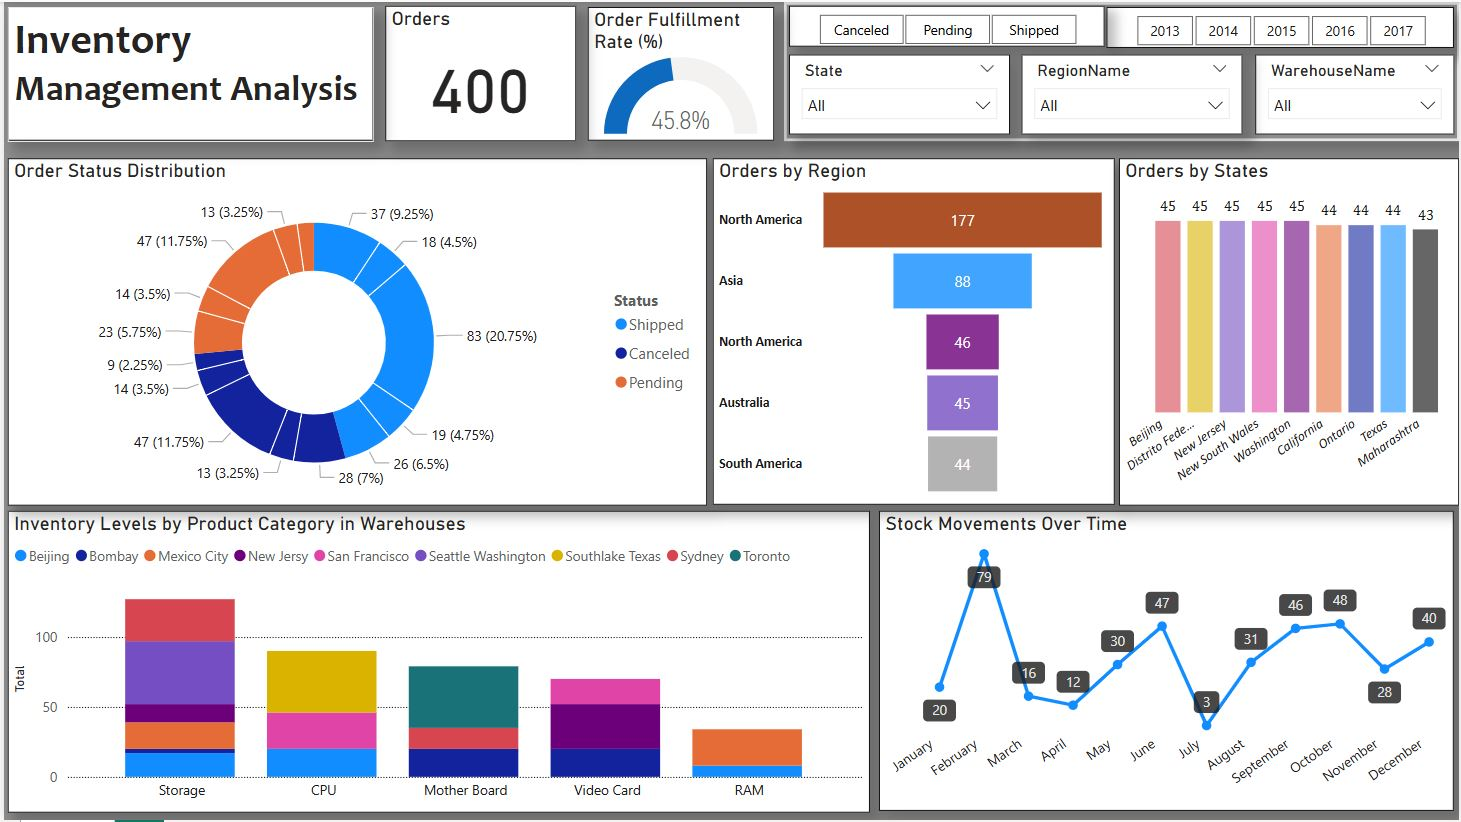

The page's visual inventory and layout, read from the dashboard file:
{"tool":"powerbi","page":{"name":"Page 1","canvas":[1280,720],"ordinal":0},"visuals":[{"type":"shape","box":[685.7,0,594.1,122.6],"z":0},{"type":"columnChart","title":"Inventory Levels by Product Category in Warehouses","fields":{"Category":["ML-Dataset.CategoryName"],"Y":["CountNonNull(ML-Dataset.ProductName)"],"Series":["ML-Dataset.WarehouseName"]},"box":[3.6,447.6,758.3,265.5],"z":1000},{"type":"lineChart","title":"Stock Movements Over Time","fields":{"Category":["ML-Dataset.OrderDate.Variation.Date Hierarchy.Month"],"Y":["CountNonNull(ML-Dataset.ProductName)"]},"box":[770.2,447.6,506,264.3],"z":2000},{"type":"slicer","fields":{"Values":["ML-Dataset.OrderDate.Variation.Date Hierarchy.Year"]},"box":[970.2,4.8,306,35.7],"z":3000},{"type":"slicer","fields":{"Values":["ML-Dataset.WarehouseName"]},"box":[1101.2,46.4,175,70.2],"z":4000},{"type":"slicer","fields":{"Values":["ML-Dataset.Status"]},"box":[690.5,3.6,277.4,35.7],"z":5000},{"type":"donutChart","title":"Order Status Distribution","fields":{"Y":["CountNonNull(ML-Dataset.Status)"],"Category":["ML-Dataset.Status"],"Series":["ML-Dataset.RegionName"]},"box":[3.6,136.9,615.5,306],"z":6000},{"type":"funnel","title":"Orders by Region","fields":{"Y":["CountNonNull(ML-Dataset.Status)"],"Category":["ML-Dataset.RegionName"]},"box":[623.8,136.9,353.6,304.8],"z":7000},{"type":"gauge","title":"Order Fulfillment Rate (%)","fields":{"Y":["ML-Dataset.Order Fulfillment Rate (%)"],"TargetValue":["CountNonNull(ML-Dataset.Status)"]},"box":[513.1,4.8,164.3,117.9],"z":8000},{"type":"slicer","fields":{"Values":["ML-Dataset.State"]},"box":[690.5,46.4,194,70.2],"z":9000},{"type":"columnChart","title":"Orders by States","fields":{"Category":["ML-Dataset.State"],"Y":["CountNonNull(ML-Dataset.Status)"]},"box":[981,136.9,298.8,306],"z":10000},{"type":"card","title":"Orders","fields":{"Values":["CountNonNull(ML-Dataset.Status)"]},"box":[335.7,3.6,167.9,119],"z":11000},{"type":"slicer","fields":{"Values":["ML-Dataset.RegionName"]},"box":[895.2,46.4,194,70.2],"z":12000},{"type":"textbox","box":[3.6,4.8,321.4,117.9],"z":13000}]}

Visuals, with their boxes in screenshot pixels (x1, y1, x2, y2), scaled from the page's 1280x720 canvas onto the 1461x822 screenshot:
shape: bbox=(783, 0, 1460, 140)
"Inventory Levels by Product Category in Warehouses" columnChart: bbox=(4, 511, 870, 814)
"Stock Movements Over Time" lineChart: bbox=(879, 511, 1457, 813)
slicer - ML-Dataset.OrderDate.Variation.Date Hierarchy.Year: bbox=(1107, 5, 1457, 46)
slicer - ML-Dataset.WarehouseName: bbox=(1257, 53, 1457, 133)
slicer - ML-Dataset.Status: bbox=(788, 4, 1105, 45)
"Order Status Distribution" donutChart: bbox=(4, 156, 707, 506)
"Orders by Region" funnel: bbox=(712, 156, 1116, 504)
"Order Fulfillment Rate (%)" gauge: bbox=(586, 5, 773, 140)
slicer - ML-Dataset.State: bbox=(788, 53, 1010, 133)
"Orders by States" columnChart: bbox=(1120, 156, 1460, 506)
"Orders" card: bbox=(383, 4, 575, 140)
slicer - ML-Dataset.RegionName: bbox=(1022, 53, 1243, 133)
textbox: bbox=(4, 5, 371, 140)
